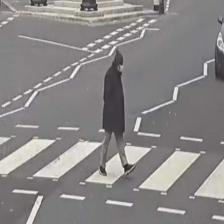person: (98, 48, 136, 176)
